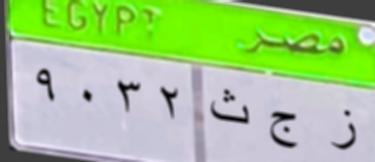0: (76, 79, 100, 117)
2: (154, 78, 188, 126)
3: (113, 77, 148, 126)
9: (30, 63, 68, 111)
jeem: (266, 101, 306, 152)
thaa: (211, 90, 252, 132)
zay: (326, 106, 361, 156)
